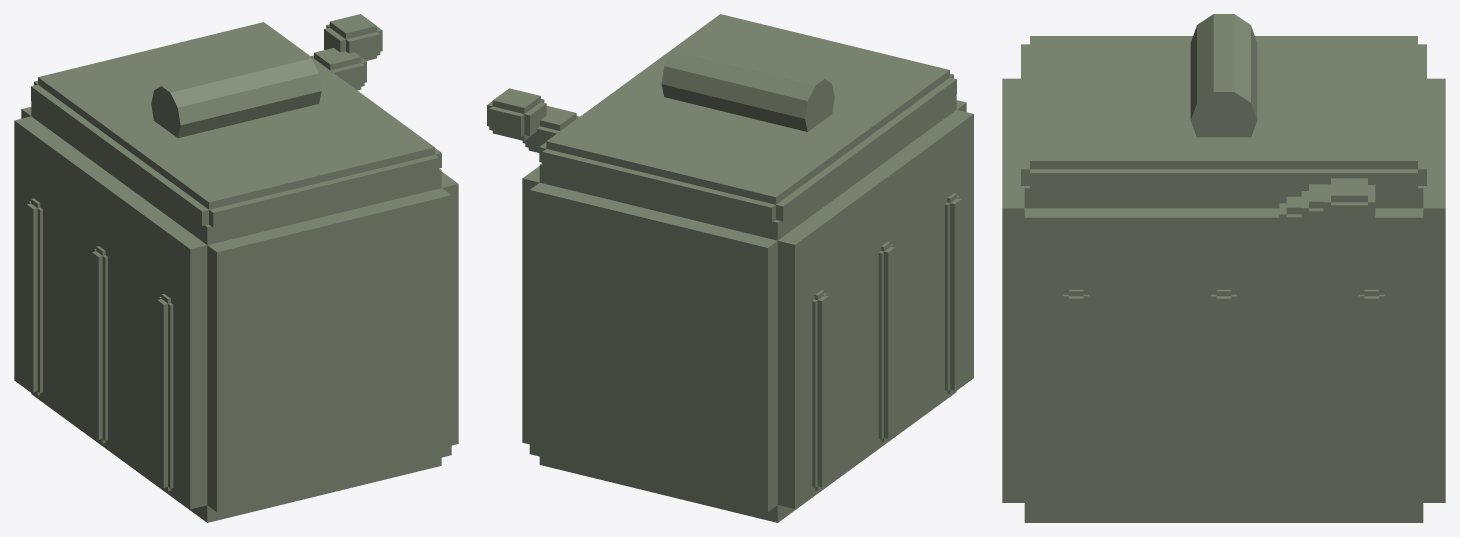
The model's file is mk19_ammo_can.glb.
The picture shows the model from 3 angles, left to right: view 1: azimuth 30°, elevation 25°; view 2: azimuth 150°, elevation 25°; view 3: azimuth 270°, elevation 25°; orthographic projection. The views are drawn at different scales.
Parts seen in each view (by area): view 1: mk19_ammo_can; view 2: mk19_ammo_can; view 3: mk19_ammo_can.
Part boxes in pixels (bbox=[...]): mk19_ammo_can: bbox=[14, 14, 458, 522]; mk19_ammo_can: bbox=[487, 14, 973, 522]; mk19_ammo_can: bbox=[1002, 14, 1445, 522].
Bounding box in the file's own units: 0.237 × 0.2421 × 0.24.
